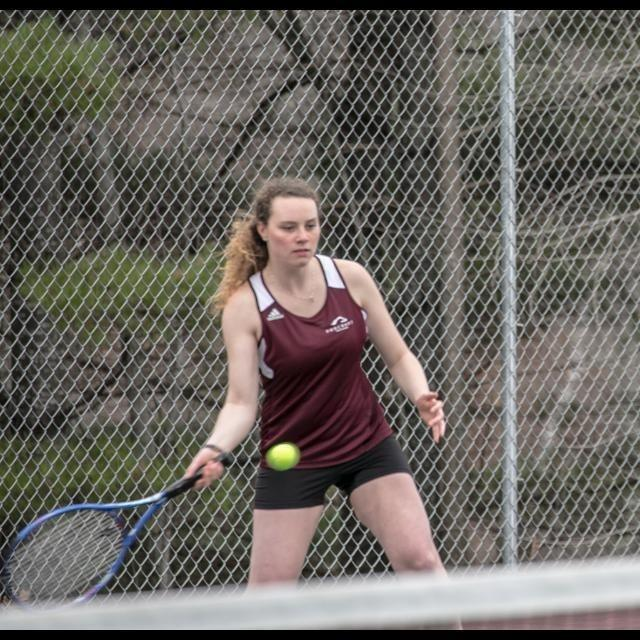ball: (265, 442, 300, 471)
